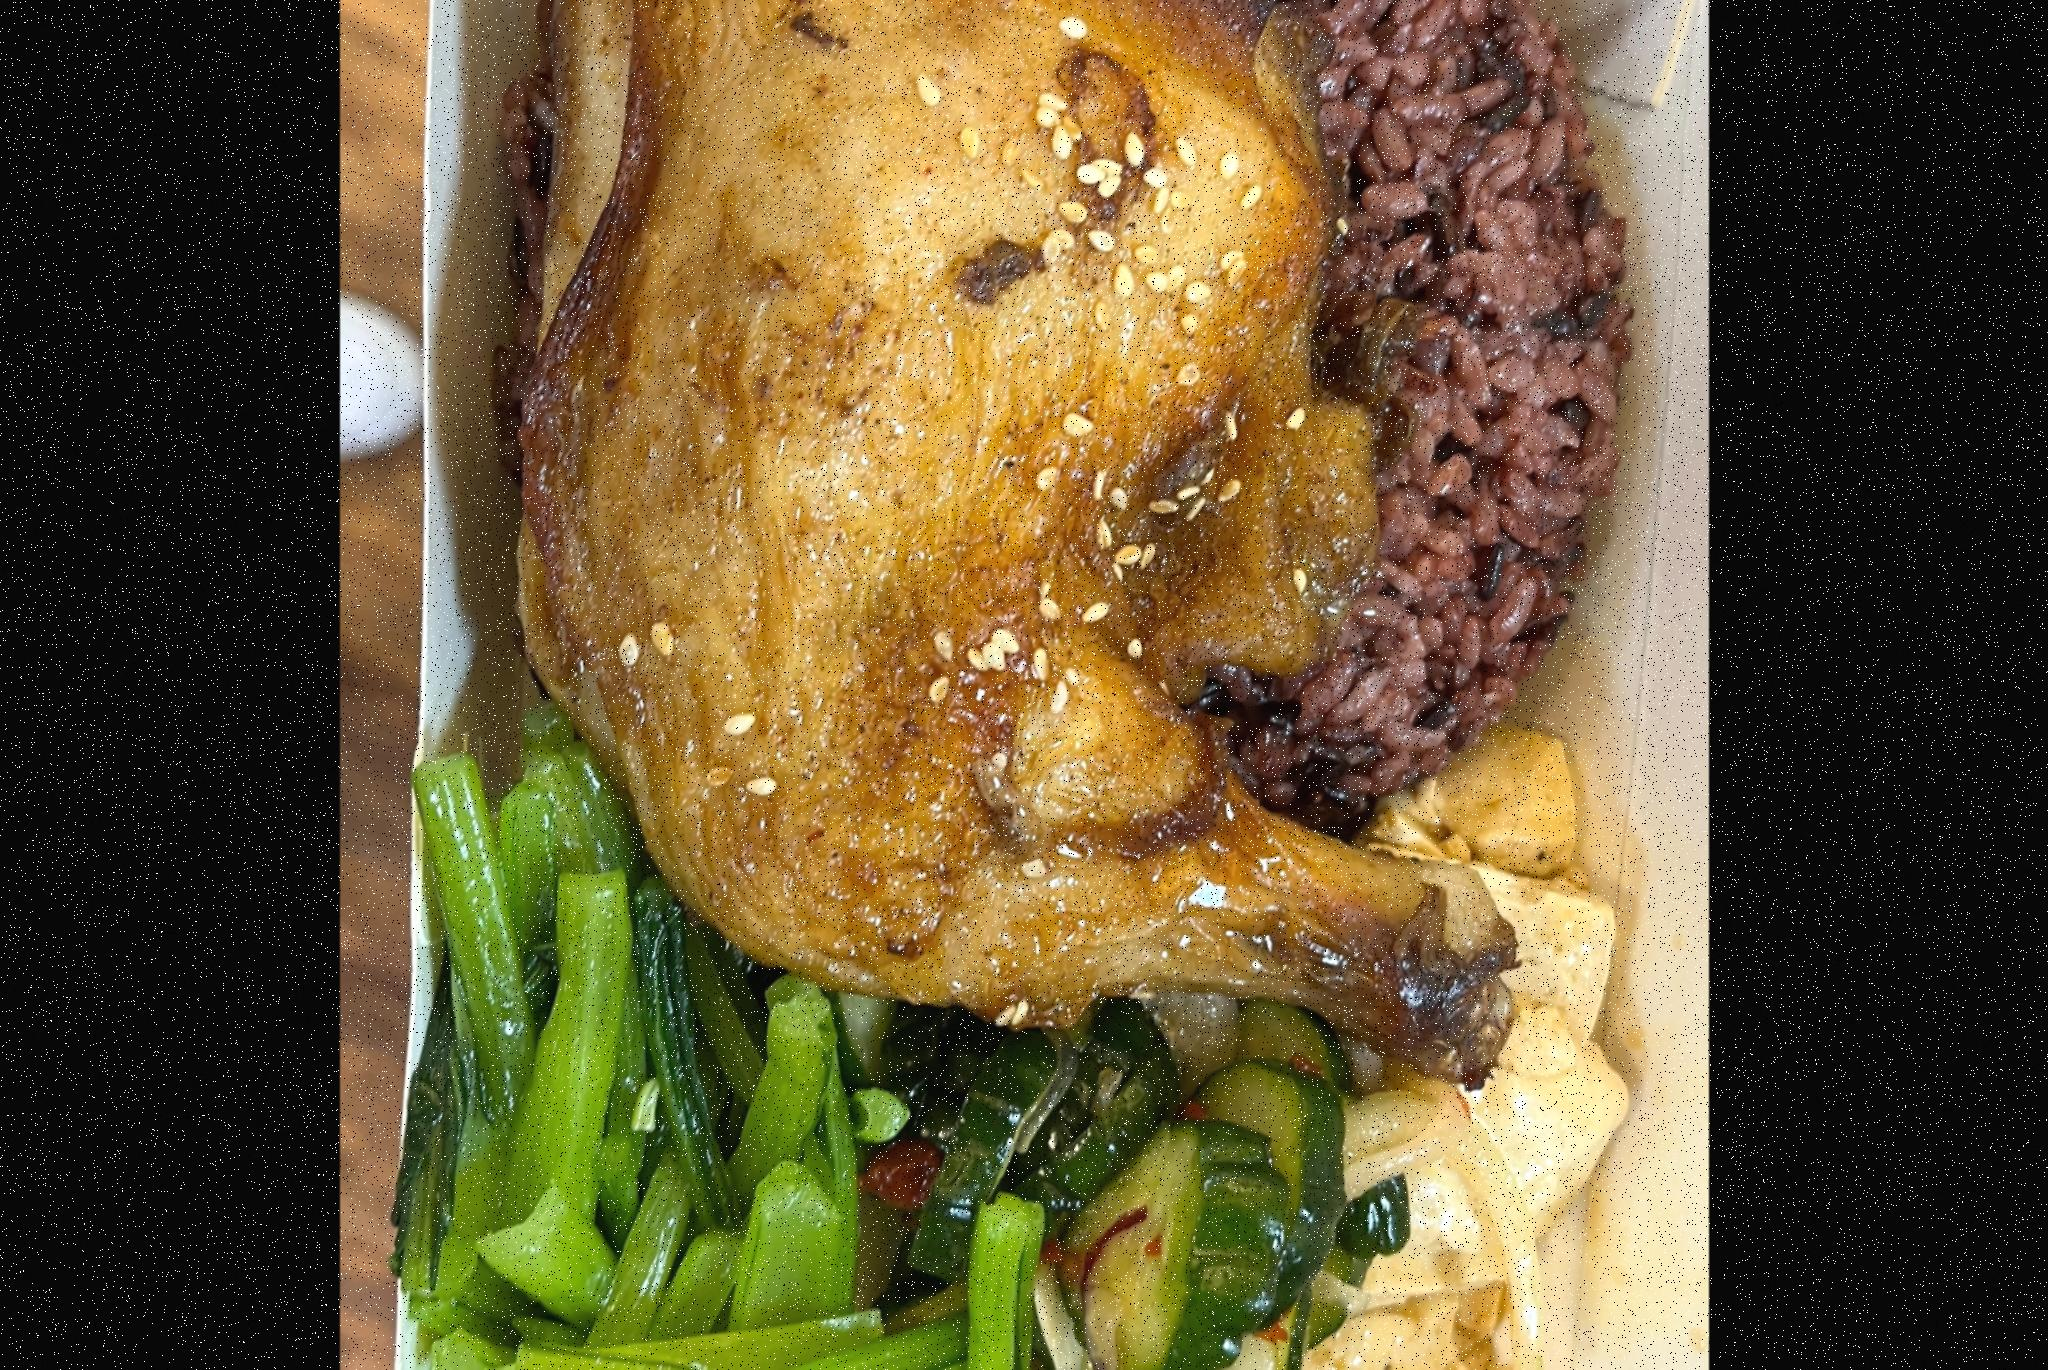big grilled chicken leg: (504, 0, 1508, 1119)
box: (348, 0, 1681, 1370)
purple rice: (494, 0, 1625, 791)
side dish: (417, 809, 922, 1370), (1298, 742, 1632, 1370), (879, 968, 1374, 1370)
